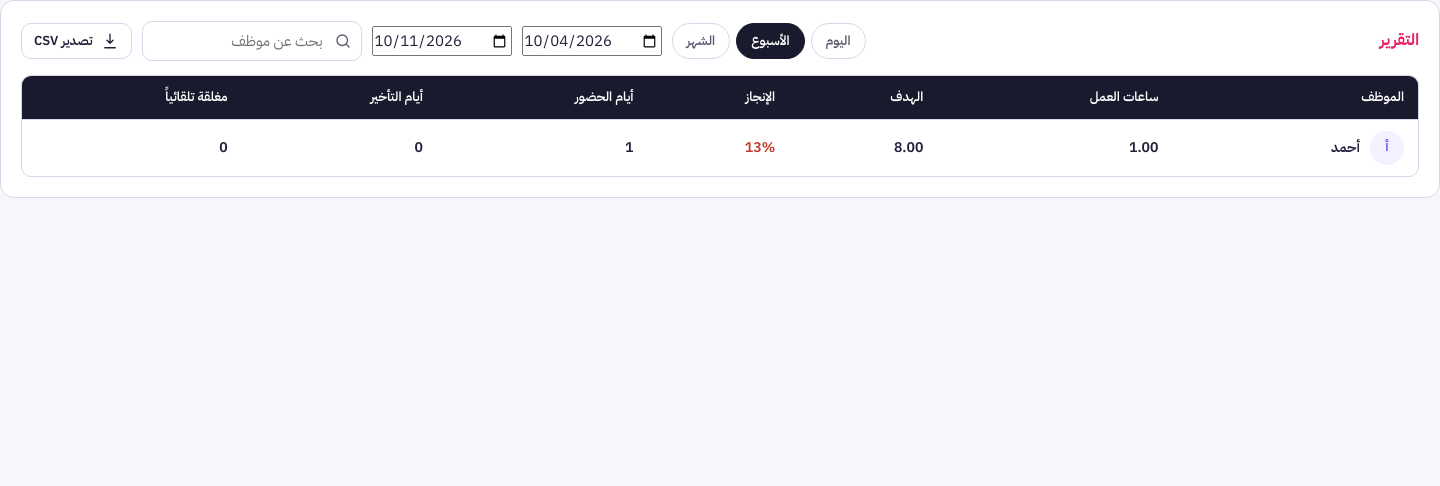
ReportPanel › marks the late session inside the employee's session detail
Click the text "أحمد": (1346, 148) [1331,137,1360,159]
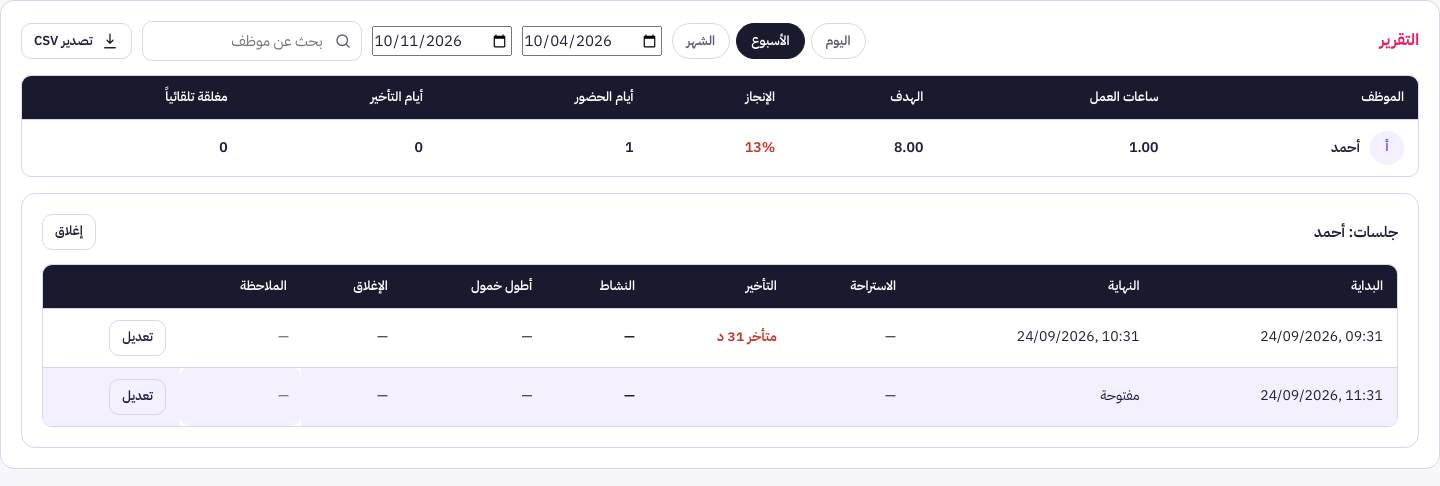
Check: the text "متأخر 31 د" is shown once, box [649,308,791,367]
